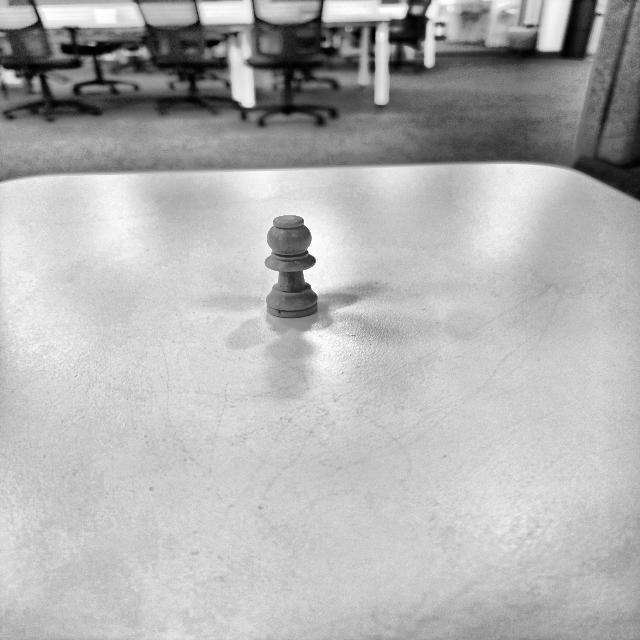white-bishop: (265, 215, 319, 318)
